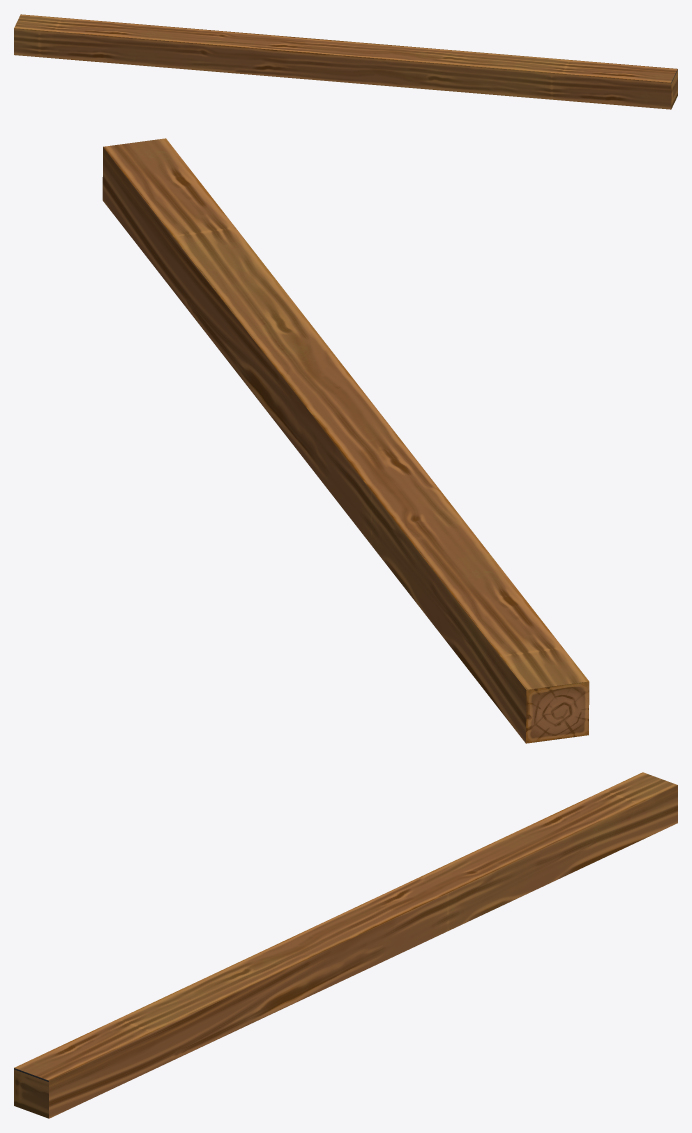
The picture shows the model from 3 angles, top to bottom: view 1: azimuth 30°, elevation 25°; view 2: azimuth 150°, elevation 25°; view 3: azimuth 270°, elevation 25°; orthographic projection. The views are drawn at different scales.
Visible parts, largest first — view 1: Cube.1909; view 2: Cube.1909; view 3: Cube.1909.
Part boxes in pixels (left/top/right/bottom): Cube.1909: left=14, top=14, right=677, bottom=109; Cube.1909: left=102, top=138, right=589, bottom=743; Cube.1909: left=14, top=772, right=677, bottom=1118.
Bounding box in the file's own units: 853 × 53.23 × 766.
Materials: 1 (1 with a texture image).
